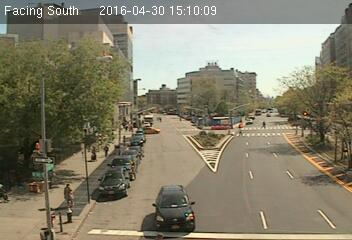neg: (103, 166, 126, 196), (201, 56, 217, 77), (241, 162, 257, 183), (168, 193, 184, 214), (131, 75, 146, 94), (200, 146, 214, 165), (123, 19, 137, 36), (95, 102, 108, 120), (37, 63, 50, 81), (234, 119, 246, 136), (325, 140, 335, 153), (221, 90, 231, 102), (36, 161, 45, 174), (156, 114, 165, 126), (327, 107, 335, 118)
pos: (59, 182, 79, 208), (86, 144, 101, 164), (101, 142, 113, 159), (260, 117, 270, 130), (177, 112, 186, 124)
